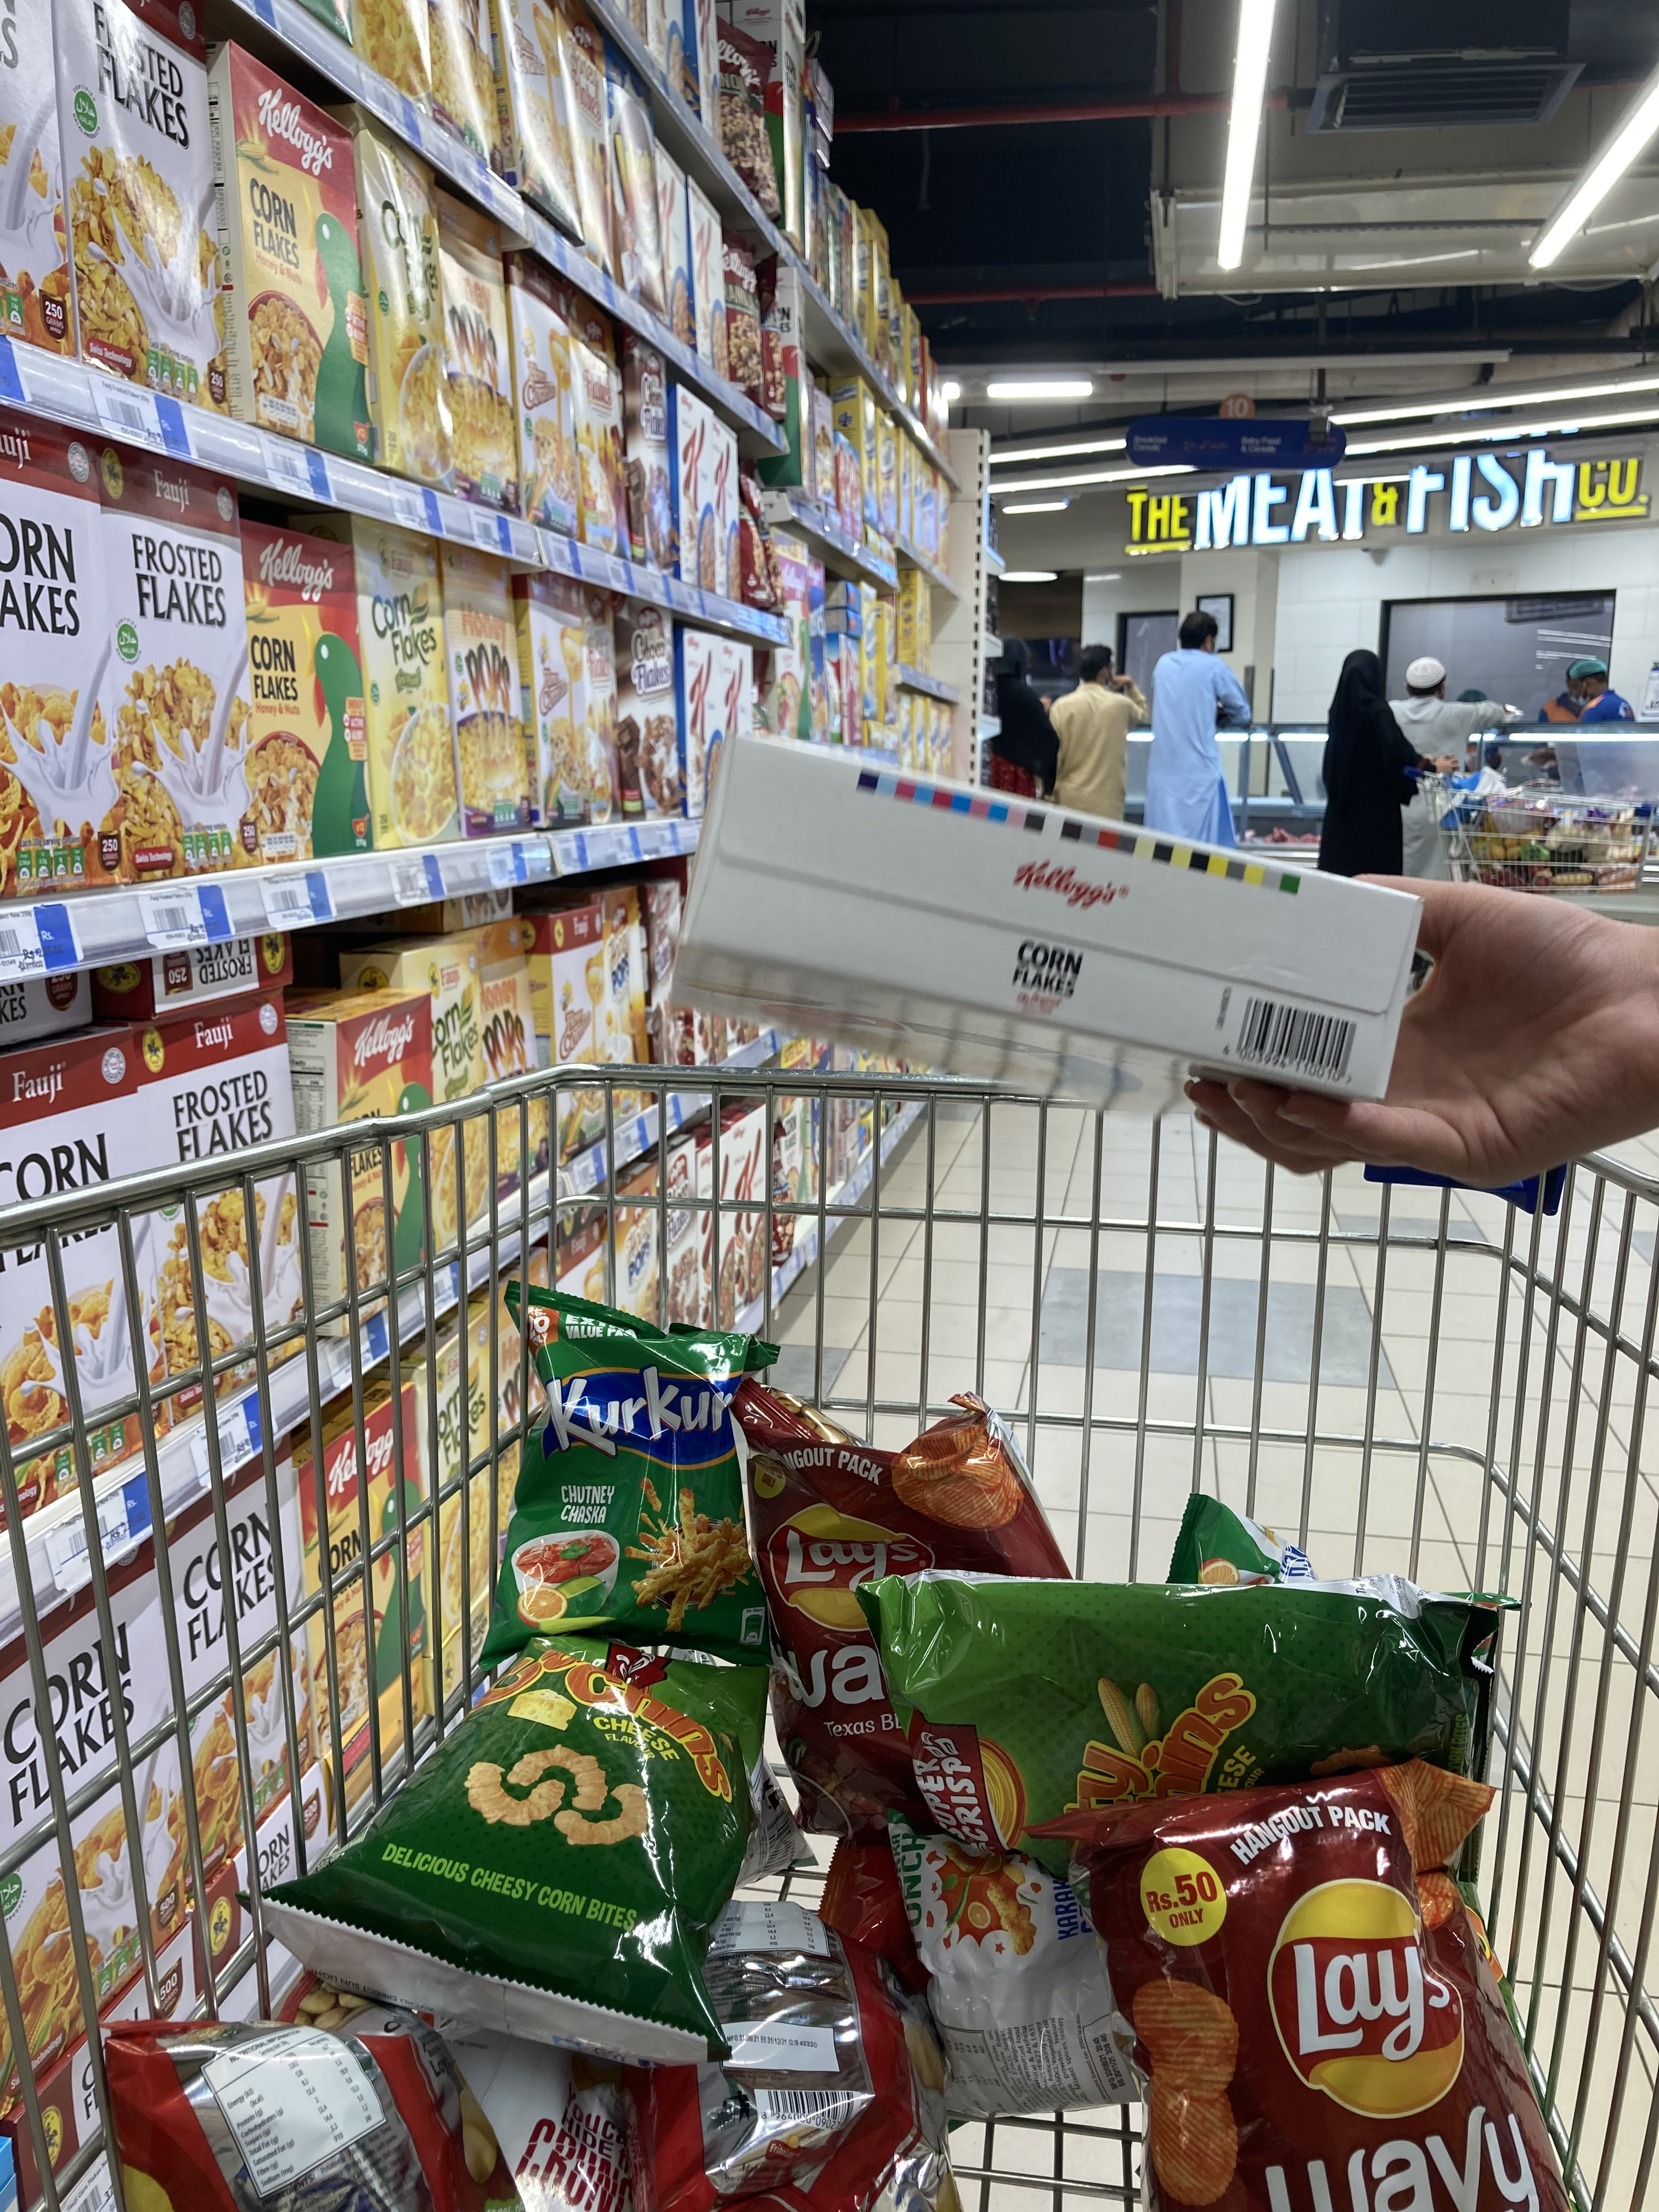Kellogg's Corn Flakes: (666, 714, 1420, 1113)
